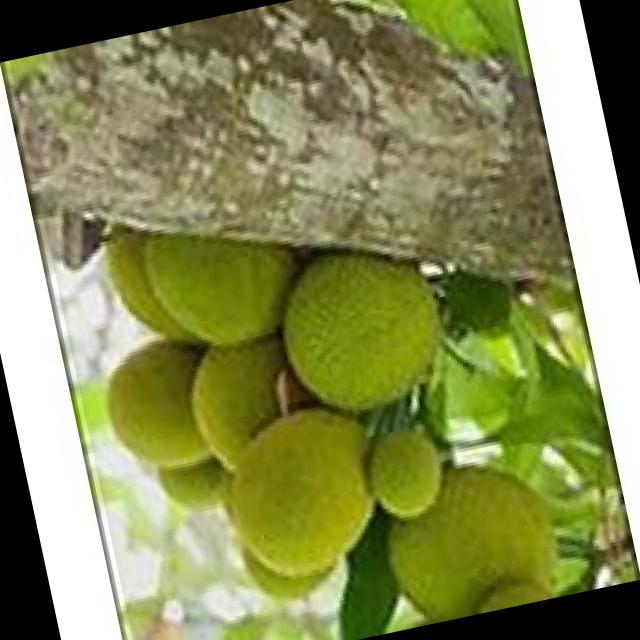Fruit: (179, 359, 433, 632), (241, 204, 482, 450), (347, 428, 589, 634)
